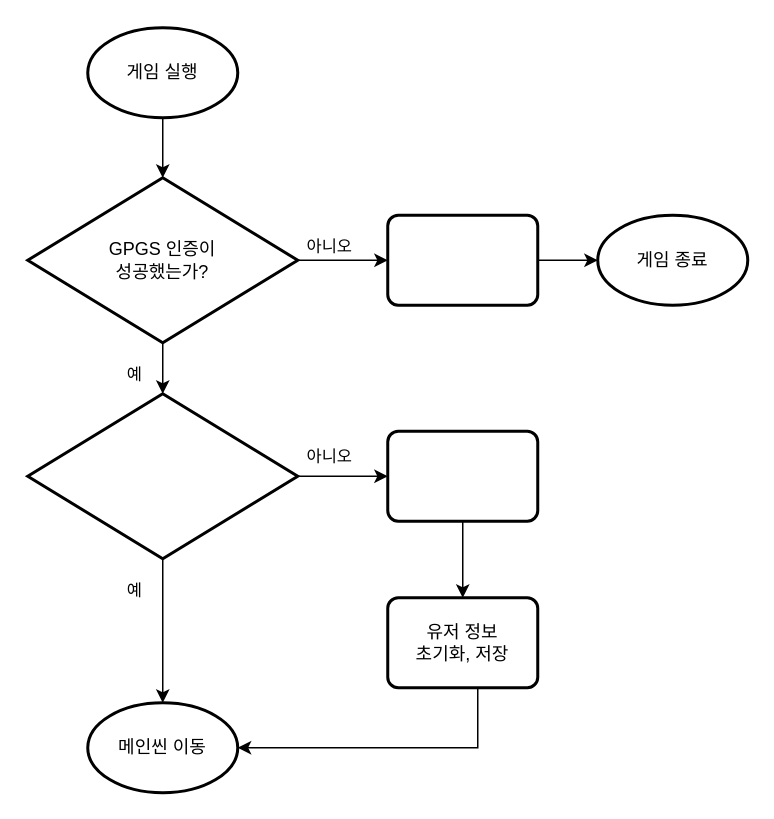
Some shapes in this 774 by 819 pixel diagram are drawn without their labels. The centre of each missing label's shape, as x and y in pixels:
Firestore에 유저 정보가 존재하는가?: (162,476)
닉네임 입력: (462,475)
에러창 팝업: (462,259)
